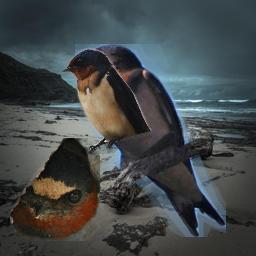Swallow: (75, 44, 226, 237), (60, 48, 152, 154), (10, 138, 100, 241)
